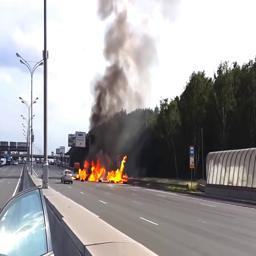fire: (78, 156, 128, 184)
